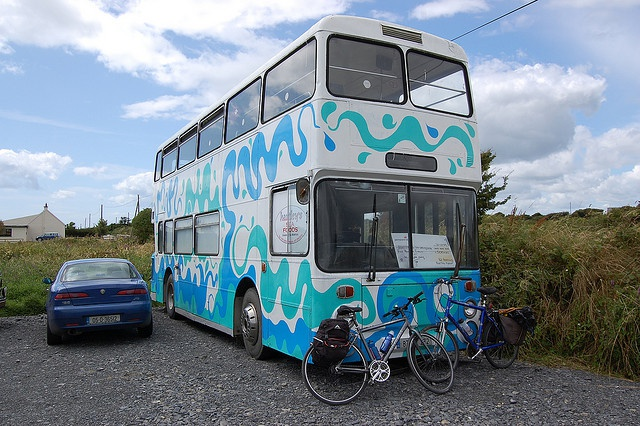non-vehicle: (301, 295, 453, 405), (423, 275, 533, 371)
